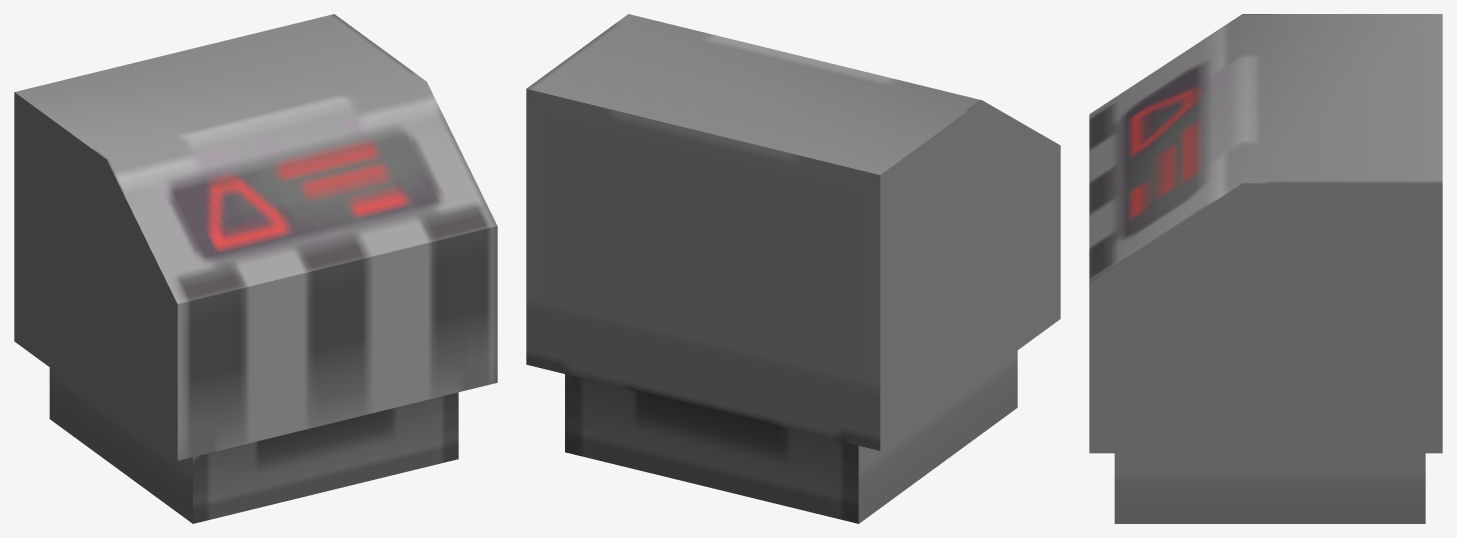
File: Building_AncientEnemyTerminal.obj
3 views of the same model, side by side, from view 1: azimuth 30°, elevation 25°; view 2: azimuth 150°, elevation 25°; view 3: azimuth 270°, elevation 25° (orthographic). The views are drawn at different scales.
Parts seen in each view (by area): view 1: Body; view 2: Body; view 3: Body.
Boxes of the visible parts, <box> form: Body: <box>14,14,497,523</box>; Body: <box>526,14,1060,523</box>; Body: <box>1089,14,1442,523</box>.
Size of the model in its own units: 0.94 by 0.92 by 0.83.
Materials: 1 (1 with a texture image).
